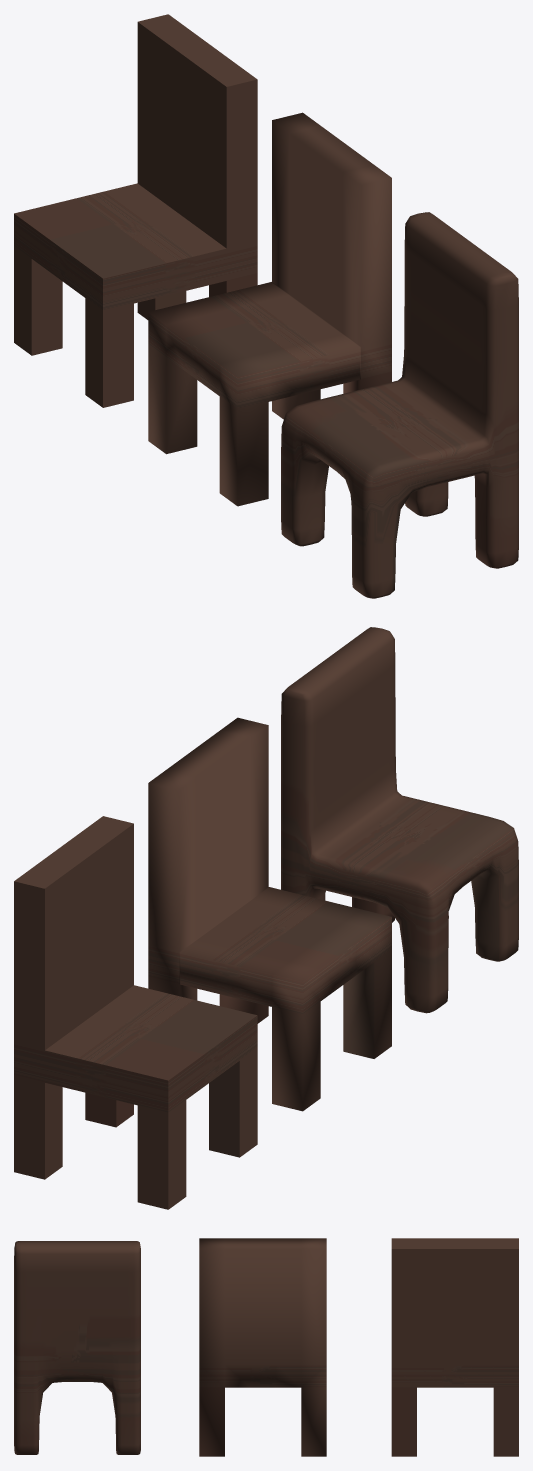
Rendered from Chair.fbx.
3 views of the same model, one above another, from view 1: azimuth 30°, elevation 25°; view 2: azimuth 150°, elevation 25°; view 3: azimuth 270°, elevation 25° (orthographic). The views are drawn at different scales.
Visible parts, largest first — view 1: Cube.002, Cube.001, Cube.003; view 2: Cube.001, Cube.003, Cube.002; view 3: Cube.001, Cube.003, Cube.002.
Part boxes in pixels (x1,y1,x2,y2): Cube.002: [281, 212, 518, 598]; Cube.001: [14, 14, 257, 407]; Cube.003: [148, 112, 391, 506]; Cube.001: [14, 816, 257, 1209]; Cube.003: [148, 717, 391, 1111]; Cube.002: [281, 627, 518, 1013]; Cube.001: [391, 1238, 518, 1456]; Cube.003: [199, 1238, 326, 1456]; Cube.002: [14, 1241, 140, 1454].
Size of the model in its own units: 500 by 900 by 1982.
1 material, 1 textured.
